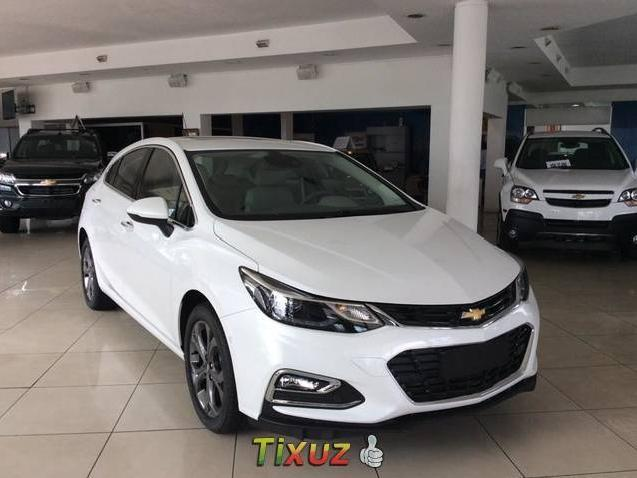car: (75, 138, 541, 437), (494, 127, 637, 247), (1, 126, 106, 221)
